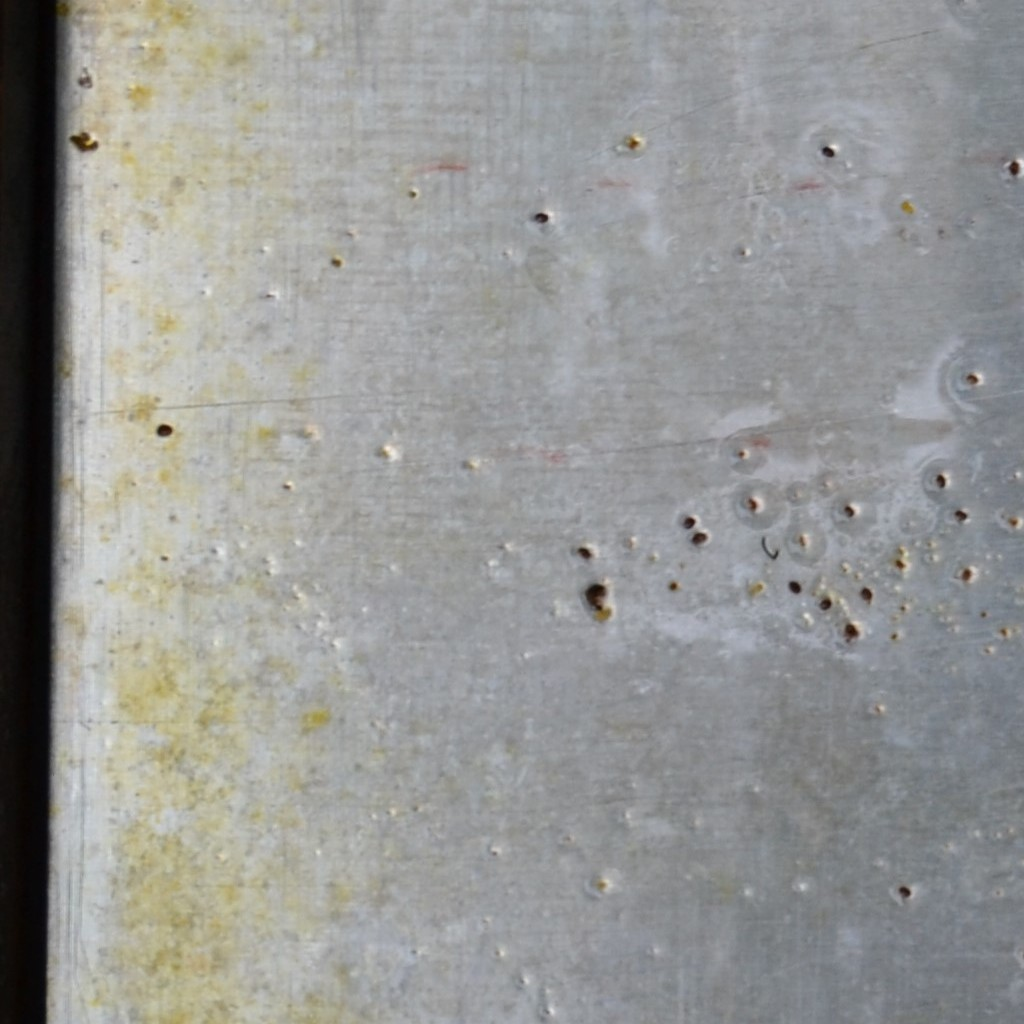varroa: (154, 422, 175, 439), (1005, 157, 1021, 179), (690, 528, 709, 546), (857, 585, 874, 604), (529, 210, 550, 225), (951, 506, 970, 522), (575, 545, 594, 561), (821, 142, 838, 159), (843, 622, 860, 639), (817, 597, 835, 613), (841, 501, 856, 520), (787, 579, 803, 595), (964, 372, 982, 386), (935, 470, 947, 491), (681, 514, 697, 529), (897, 884, 913, 898)
